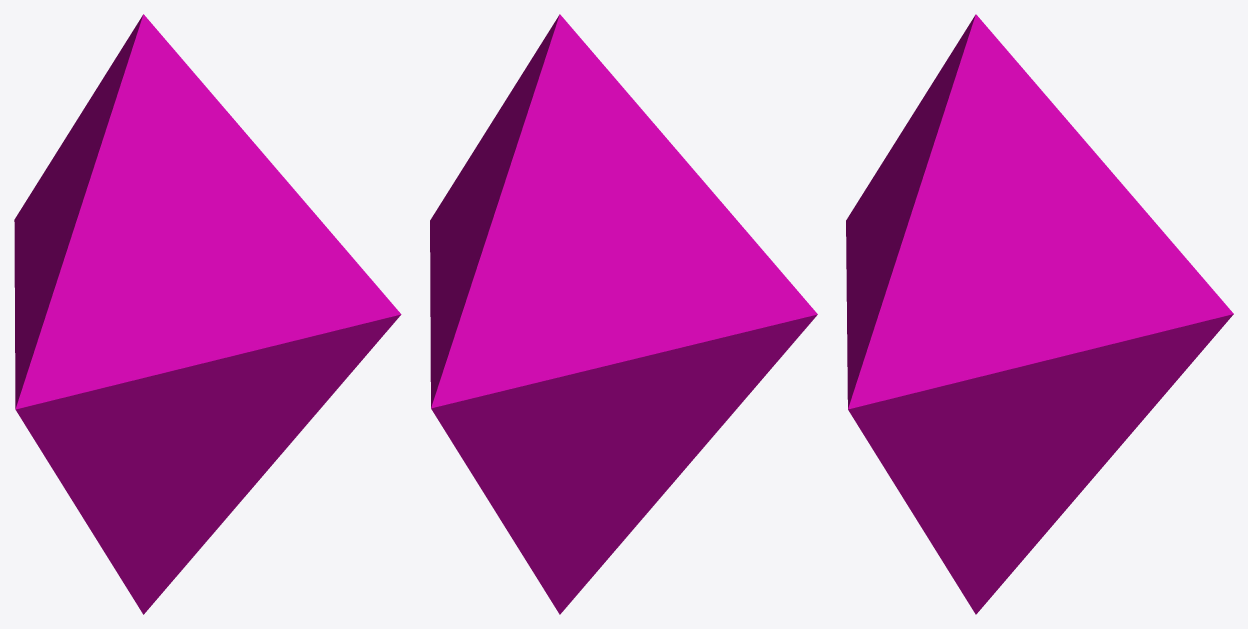
File: Emerald.fbx
The picture shows the model from 3 angles, left to right: view 1: azimuth 30°, elevation 25°; view 2: azimuth 150°, elevation 25°; view 3: azimuth 270°, elevation 25°; orthographic projection.
Visible parts, largest first — view 1: Emerald; view 2: Emerald; view 3: Emerald.
Part boxes in pixels (box(x1,y1,x2,y2)): Emerald: box(14, 14, 401, 614); Emerald: box(430, 14, 817, 614); Emerald: box(846, 14, 1233, 614).
Bounding box in the file's own units: 209 × 311 × 182.
